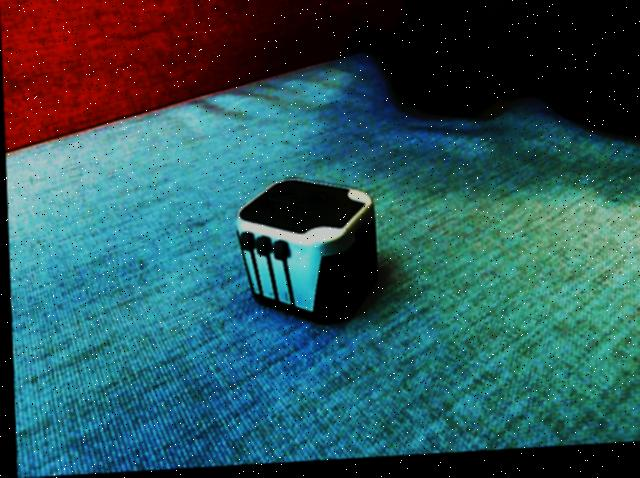adapter: (231, 178, 376, 332)
